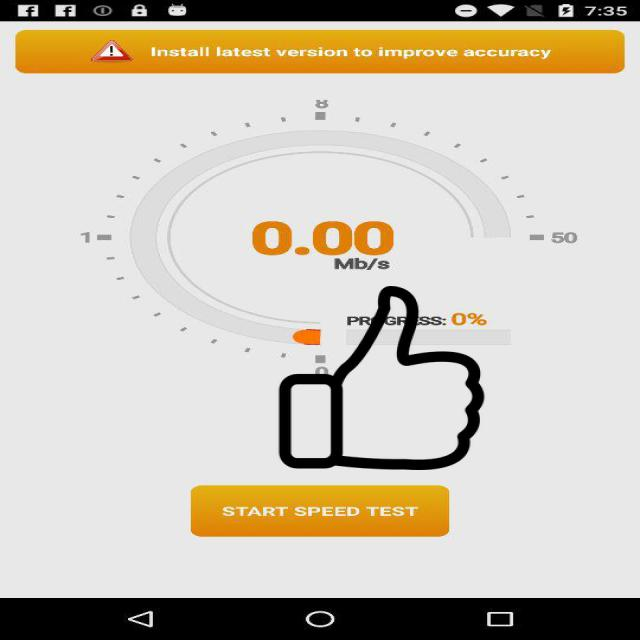privacy zuckering: (276, 286, 487, 470)
